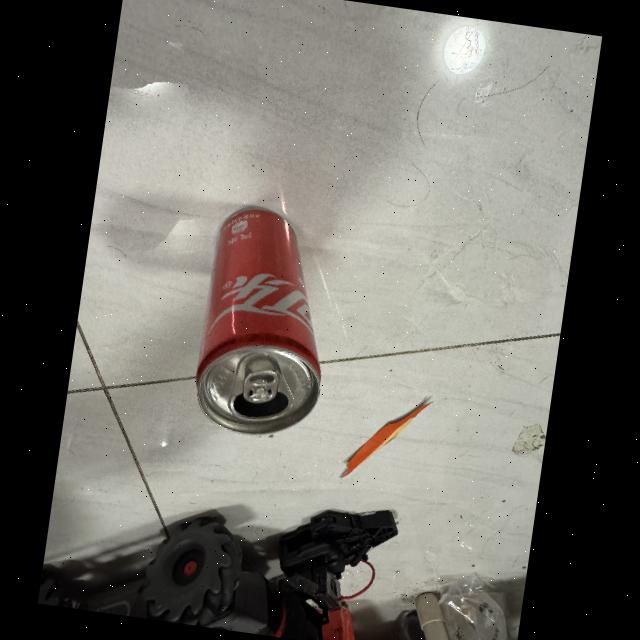Cola: (177, 186, 358, 452)
